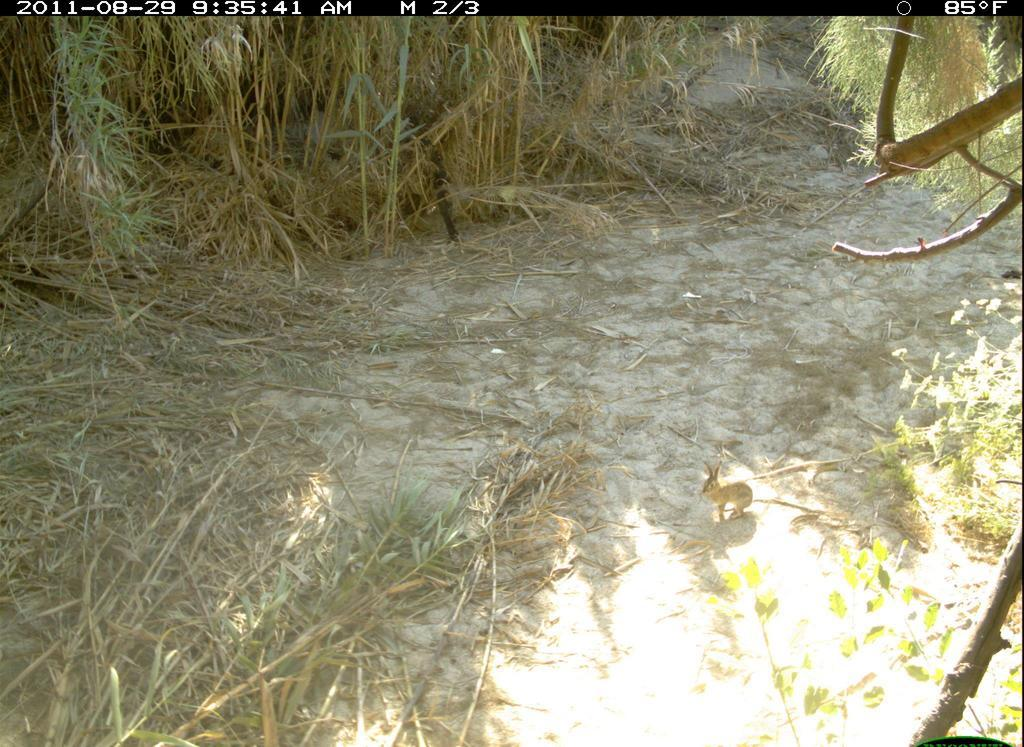rabbit: (696, 455, 761, 530)
